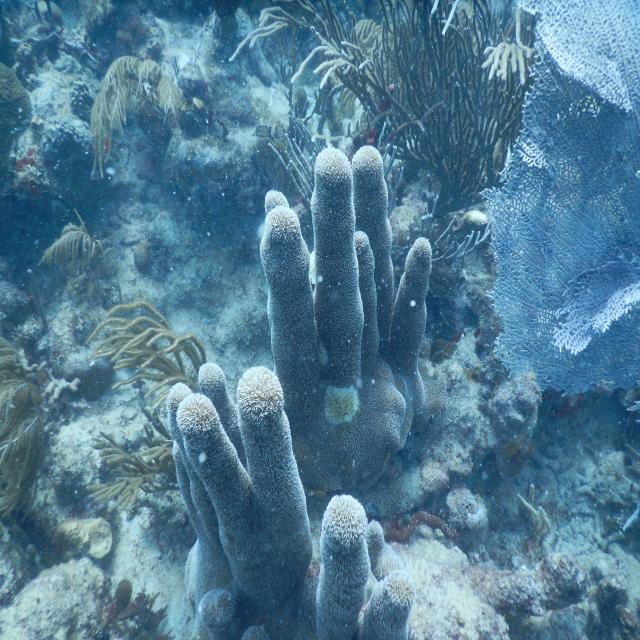Coral: (167, 364, 414, 640), (477, 0, 640, 400), (228, 0, 542, 206), (260, 144, 432, 491), (86, 405, 175, 514), (394, 194, 491, 264), (268, 115, 334, 206), (0, 61, 32, 178), (377, 121, 404, 218)
